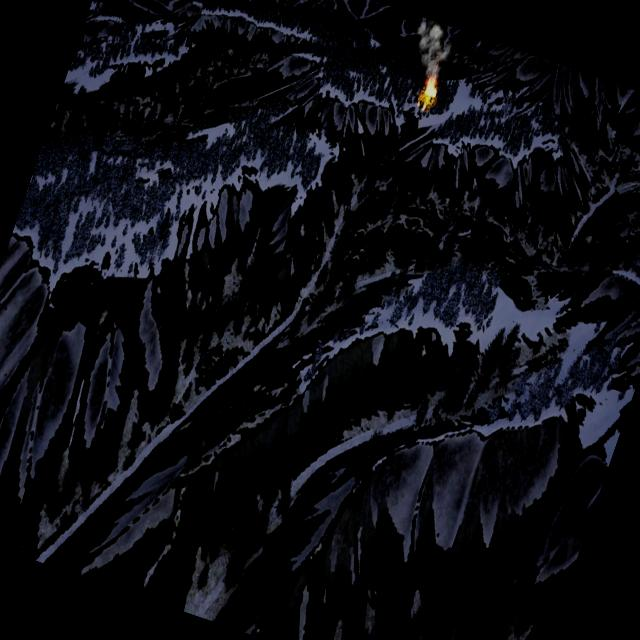fire: (417, 76, 442, 110)
smoke: (401, 15, 458, 80)
